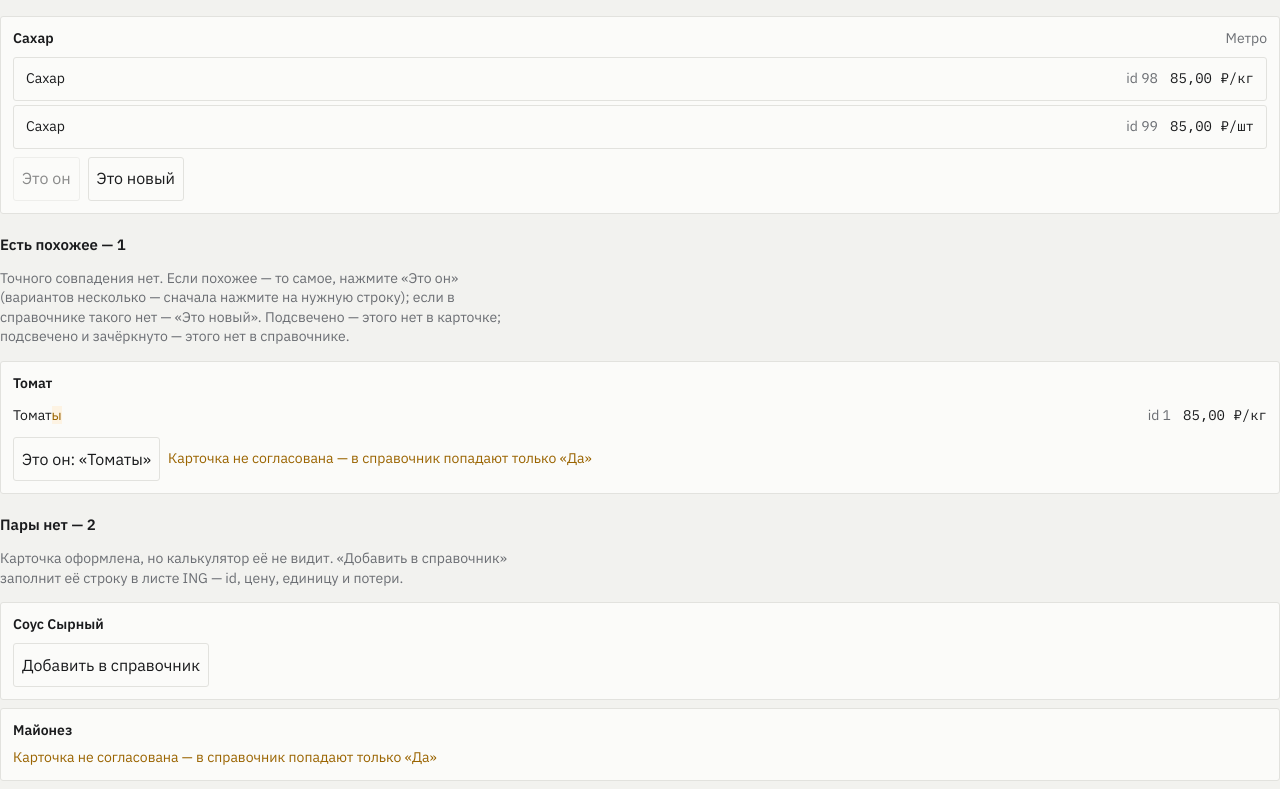
it: форма: вес 1 шт — только для «шт»
This screenshot has width=1280, height=789.
(page scrolled)
What coordinates should you click on to do the following:
click the button "Добавить в справочник"
I would click on:
 (111, 665)
Its box is 13,643 -> 209,687.
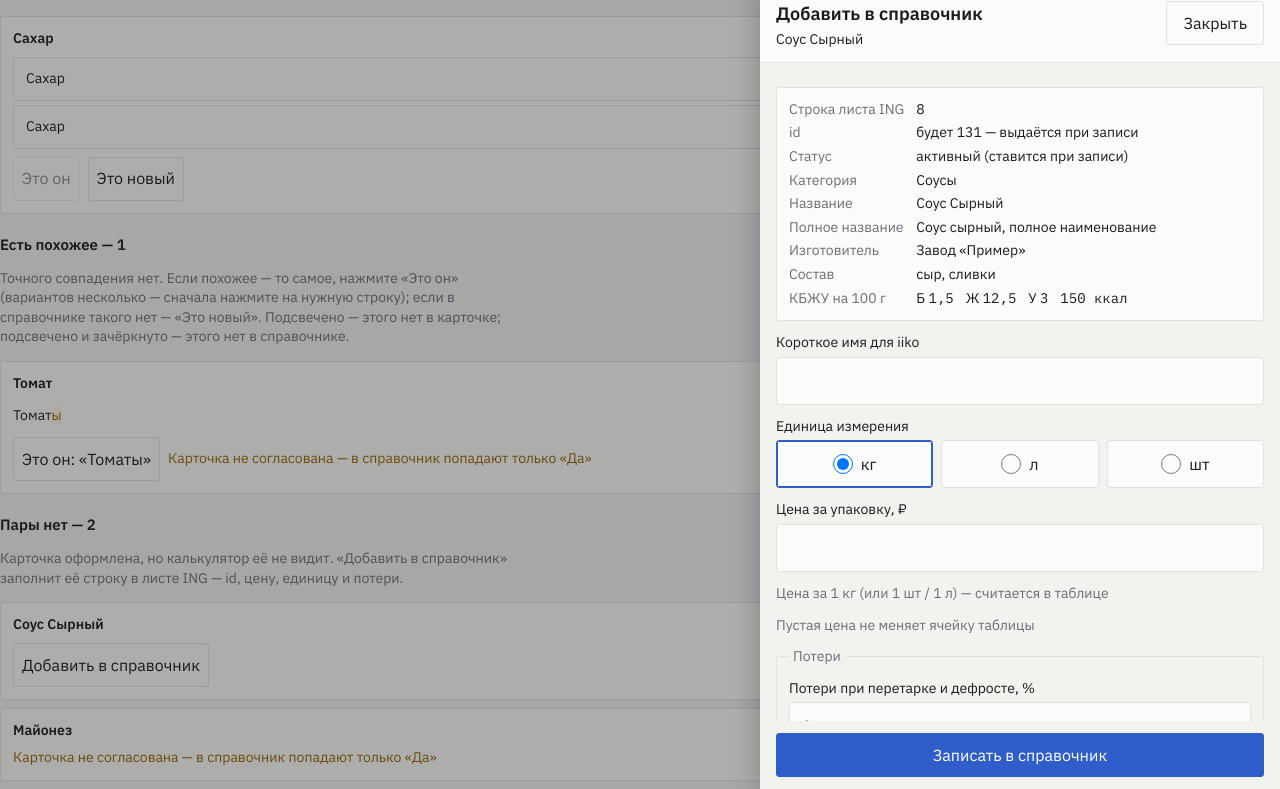
Expected: the field labelled "Вес 1 шт, г" is not shown
Expected: the radio button labelled "кг" is checked, 833,454 -> 853,474
What coordinates should you click on to do the following:
click the radio button labelled "шт"
I would click on:
 (1171, 464)
Its box is 1161,454 -> 1181,474.
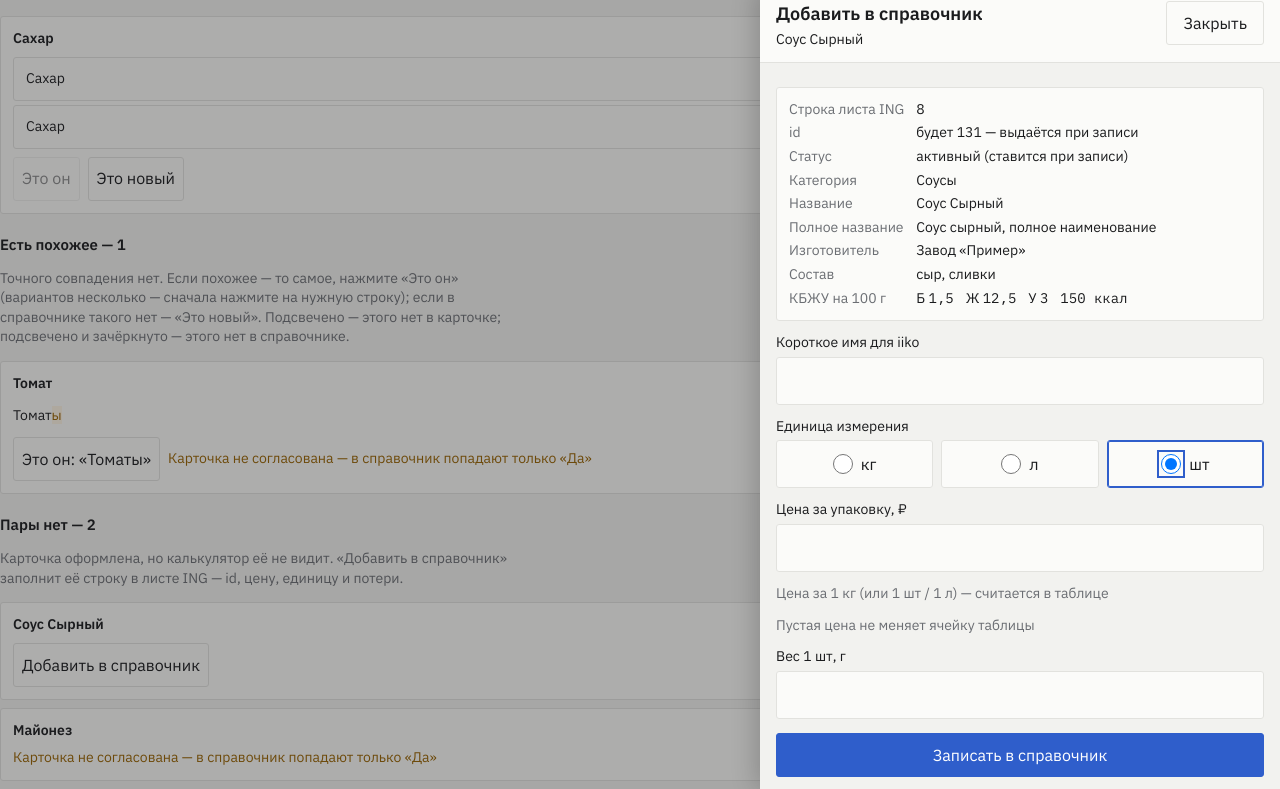
Expected: the field labelled "Вес 1 шт, г" is shown, 776,671 -> 1264,719
What coordinates should you click on to do the following:
click the radio button labelled "л"
I would click on:
 (1012, 464)
Its box is 1002,454 -> 1022,474.
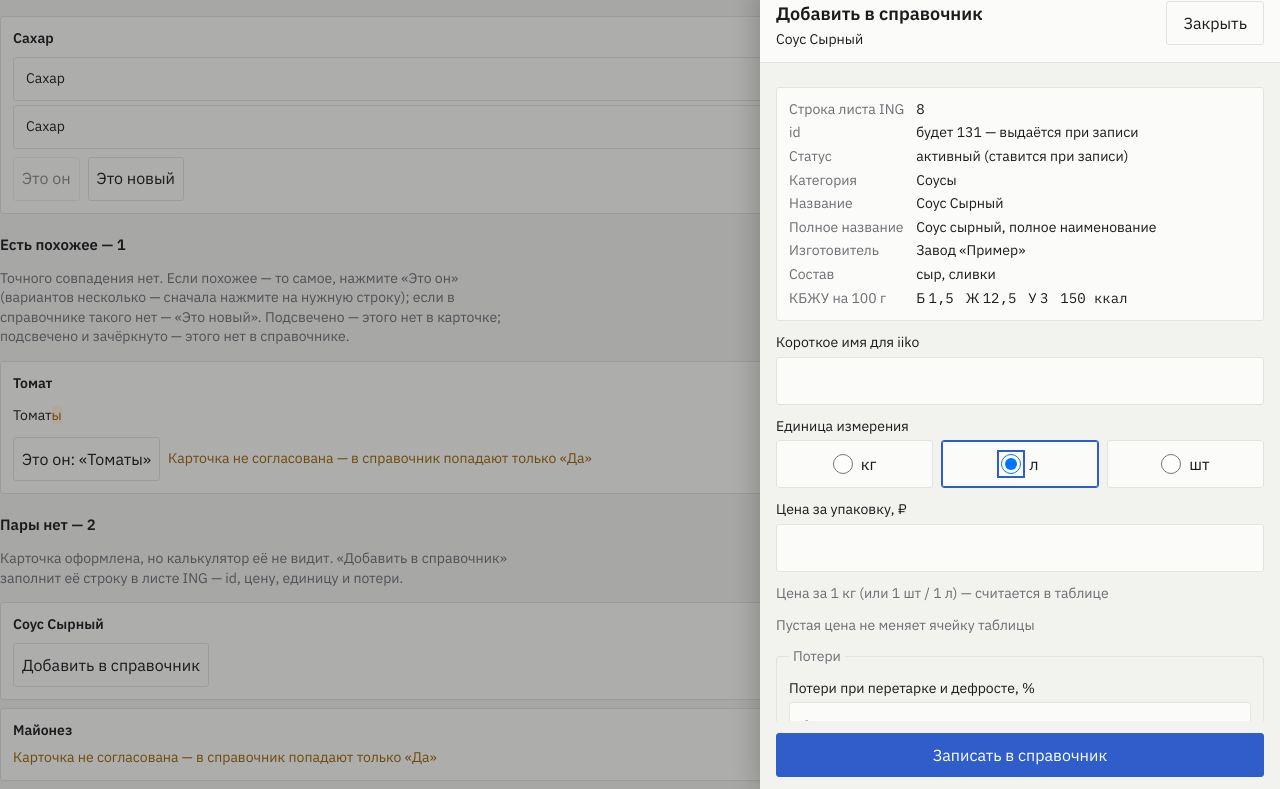
Expected: the label labelled "Вес 1 шт, г" is gone
